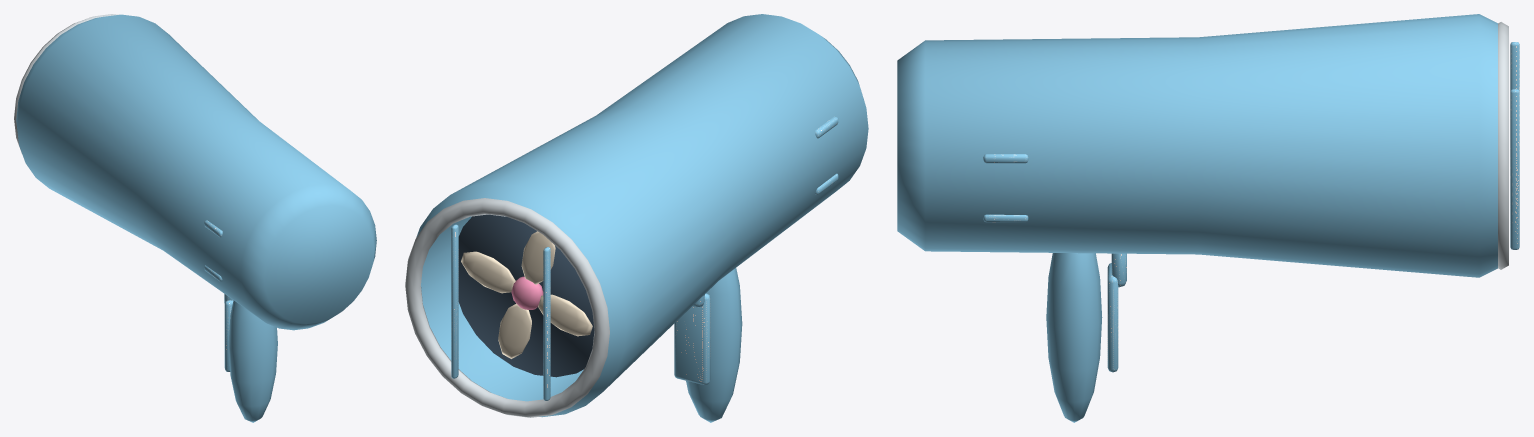
The model's file is dryer_big.glb.
3 views of the same model, side by side, from view 1: azimuth 30°, elevation 25°; view 2: azimuth 150°, elevation 25°; view 3: azimuth 270°, elevation 25° (orthographic). The views are drawn at different scales.
Visible parts, largest first — view 1: Body; view 2: Body, Fan; view 3: Body.
Boxes of the visible parts, box(x1,y1,x2,y2) form: Body: box(14, 14, 376, 422); Body: box(405, 14, 868, 422); Fan: box(461, 231, 592, 358); Body: box(897, 14, 1519, 422).
Bounding box in the file's own units: 0.1696 × 0.2813 × 0.4.
Materials: 7 (7 with a texture image).
